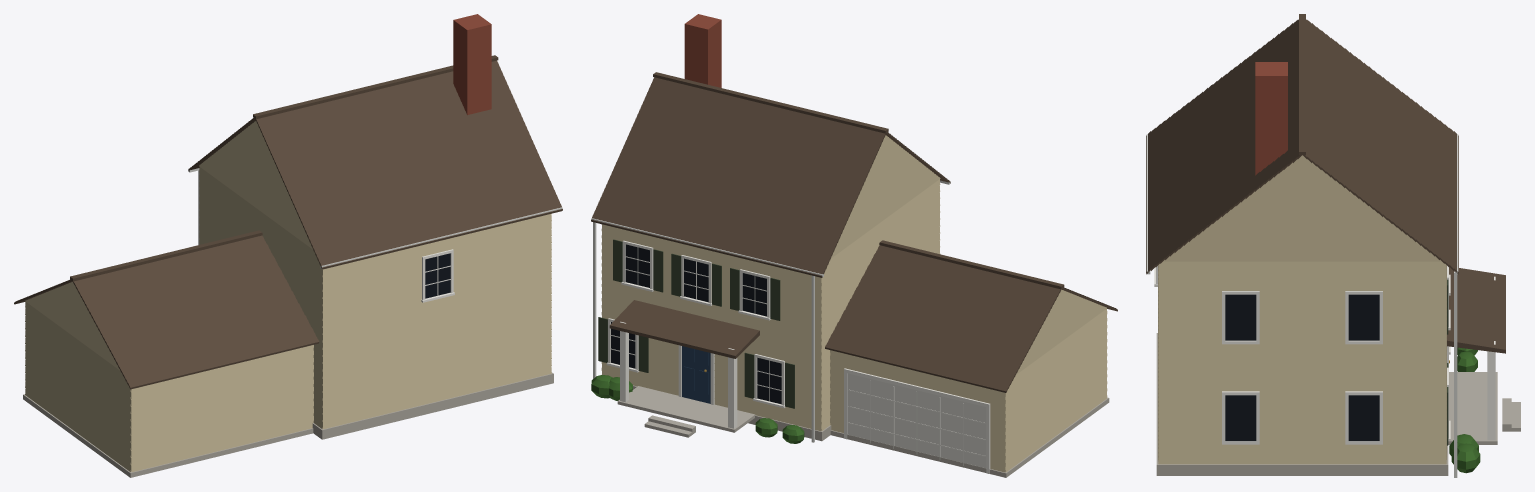
The model's file is house_a_m.glb.
3 renders of one model, left to right at view 1: azimuth 30°, elevation 25°; view 2: azimuth 150°, elevation 25°; view 3: azimuth 270°, elevation 25°, orthographic. The views are drawn at different scales.
Visible parts, largest first — view 1: house_a_m; view 2: house_a_m; view 3: house_a_m.
Boxes of the visible parts, x1,y1,x2,y2 form: house_a_m: (14, 14, 562, 477); house_a_m: (591, 14, 1117, 477); house_a_m: (1146, 14, 1520, 477).
Bounding box in the file's own units: 55.8 × 42 × 36.47.
